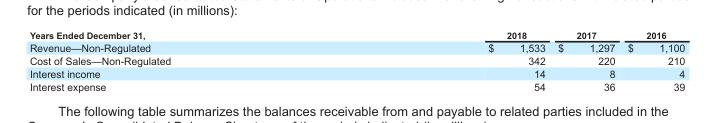table: (28, 29, 684, 92)
table column: (28, 29, 328, 92), (328, 29, 551, 92), (551, 29, 620, 92), (620, 29, 684, 92)
table column header: (28, 29, 684, 40)
table row: (28, 40, 684, 54), (28, 54, 684, 67), (28, 67, 684, 80), (28, 80, 684, 92), (28, 29, 684, 40)
